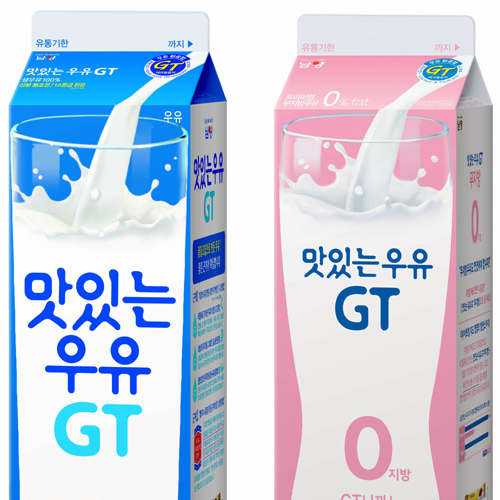milk: (275, 14, 494, 500), (10, 10, 226, 500)
